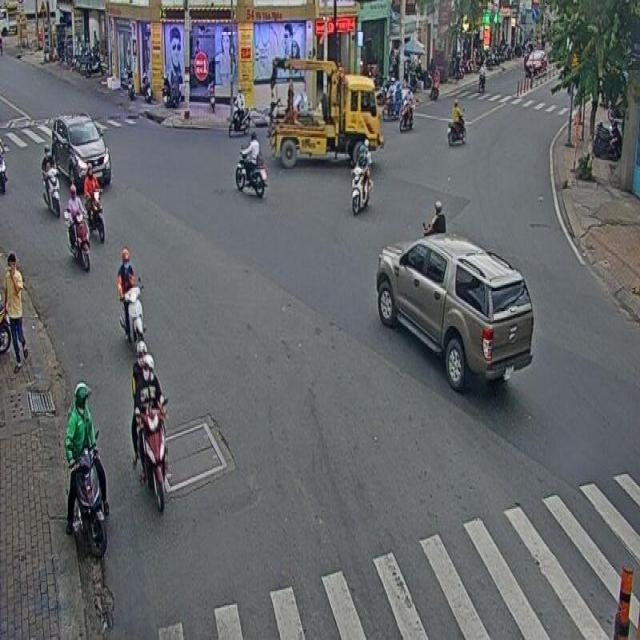car: (376, 235, 533, 390), (51, 111, 111, 188)
motorcycle: (66, 382, 110, 560), (128, 343, 166, 512), (117, 248, 146, 342), (64, 183, 90, 273), (235, 133, 267, 198), (83, 162, 104, 242), (351, 139, 373, 215), (41, 143, 60, 220)
truck: (267, 56, 380, 163)
